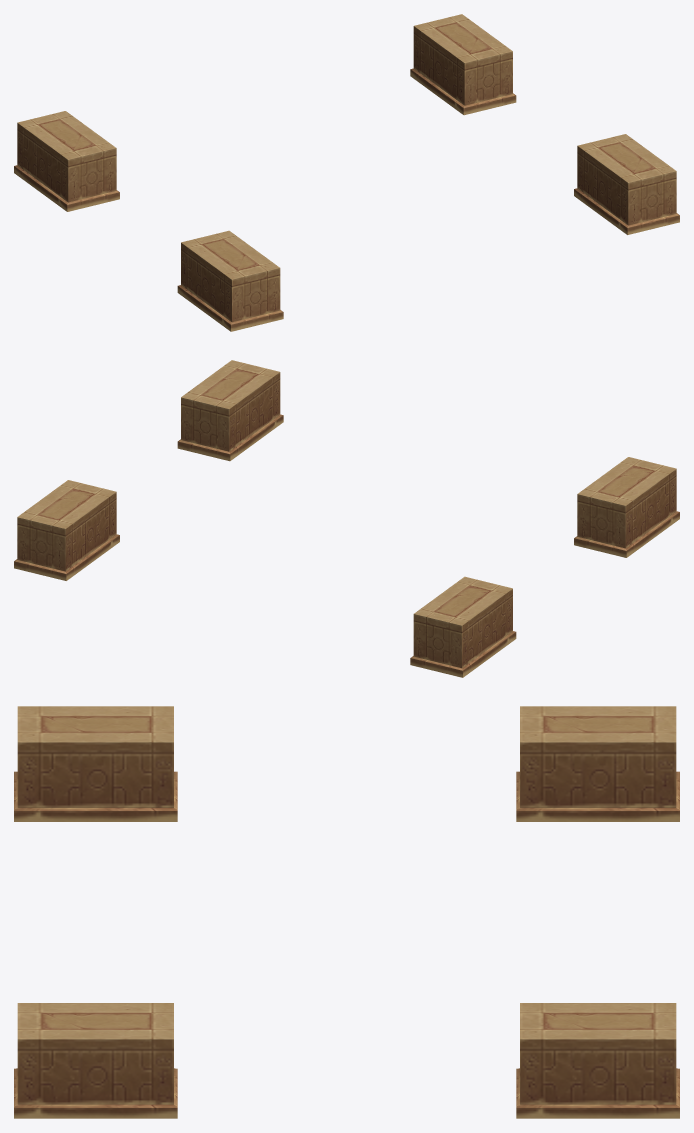
File: Area_04_3.fbx
3 views of the same model, one above another, from view 1: azimuth 30°, elevation 25°; view 2: azimuth 150°, elevation 25°; view 3: azimuth 270°, elevation 25° (orthographic). The views are drawn at different scales.
Parts seen in each view (by area): view 1: Area_04_3; view 2: Area_04_3; view 3: Area_04_3.
Boxes of the visible parts, box(x1,y1,x2,y2) form: Area_04_3: box(14, 14, 679, 331); Area_04_3: box(14, 360, 679, 677); Area_04_3: box(14, 706, 679, 1118).
Bounding box in the file's own units: 1606 × 174 × 1345.
1 material, 1 textured.
